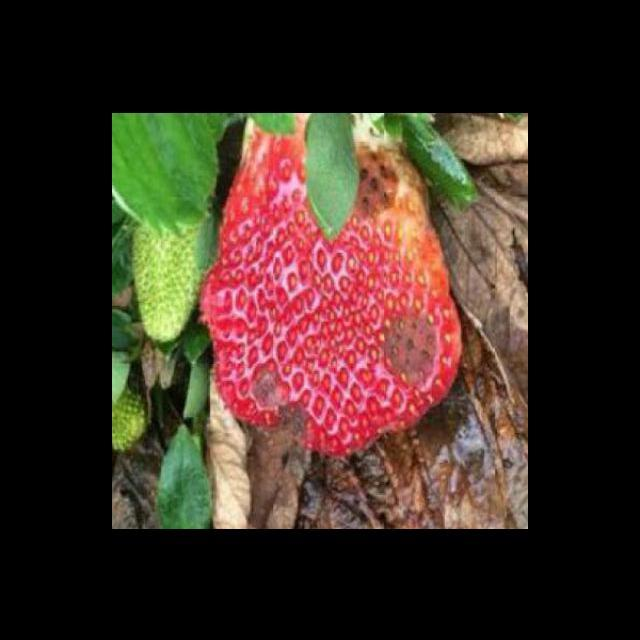Anthracnose Fruit Rot: (348, 140, 407, 232), (381, 306, 441, 392), (250, 367, 311, 441)
